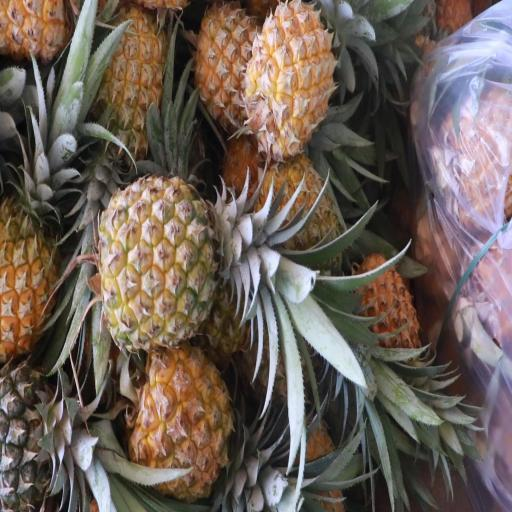------------------------------: (94, 182, 284, 351)
Pineapple - v8 v1: (116, 337, 277, 500), (0, 112, 73, 371), (241, 0, 354, 155), (91, 11, 167, 152), (194, 5, 258, 122)
